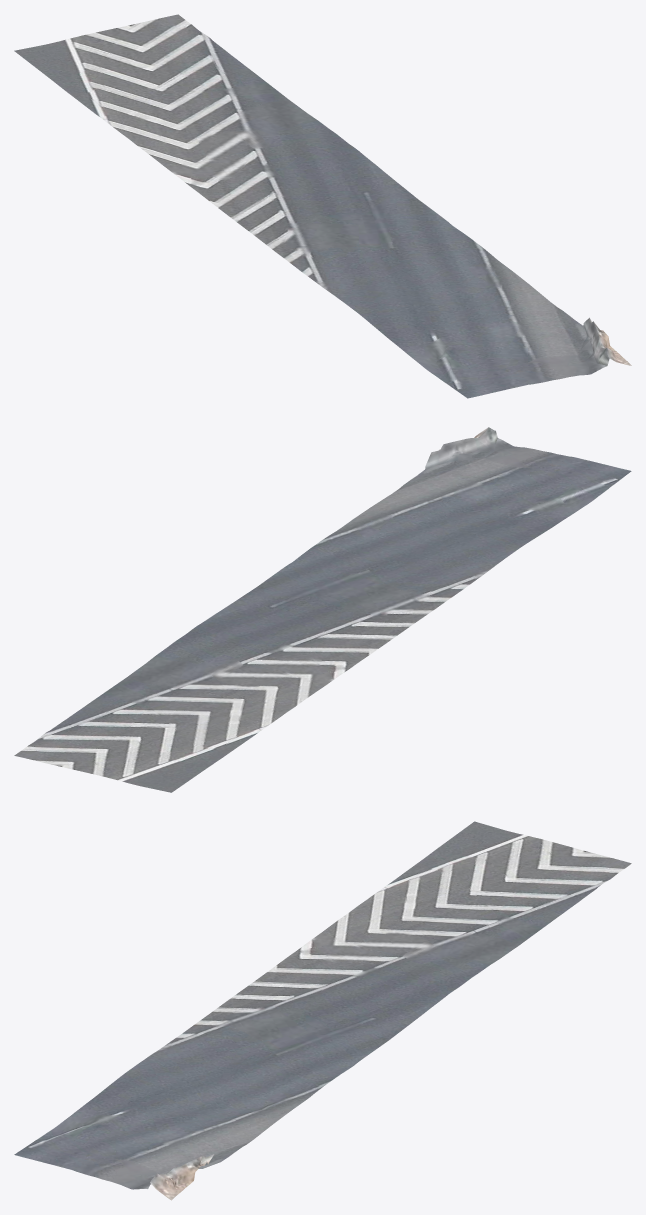
The model's file is Tile_+010_+005_L21_0uuuu01.glb.
The picture shows the model from 3 angles, top to bottom: view 1: azimuth 30°, elevation 25°; view 2: azimuth 150°, elevation 25°; view 3: azimuth 330°, elevation 25°; orthographic projection. The views are drawn at different scales.
Visible parts, largest first — view 1: rtc; view 2: rtc; view 3: rtc.
Boxes of the visible parts, <box> form: rtc: <box>14,14,631,398</box>; rtc: <box>14,427,631,792</box>; rtc: <box>14,821,631,1200</box>.
Bounding box in the file's own units: 8.86 × 0.9672 × 41.2.
1 material, 1 textured.
